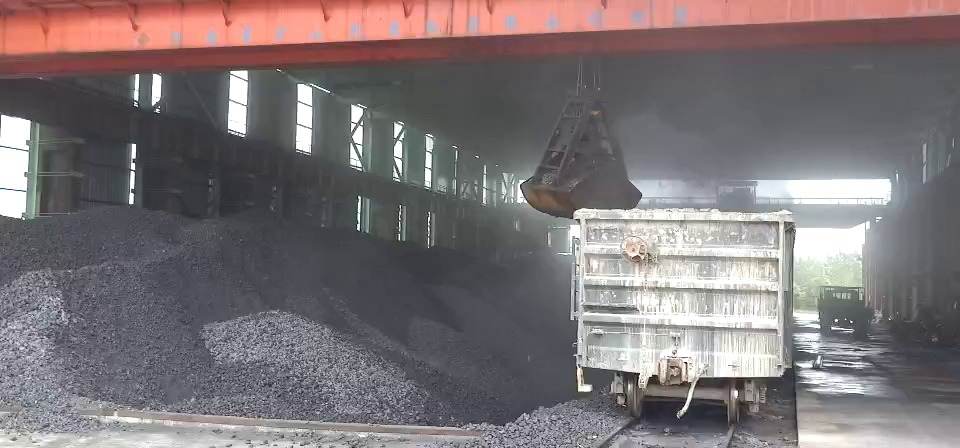dust: (473, 222, 565, 354), (650, 121, 718, 202)
grab: (518, 84, 646, 219)
